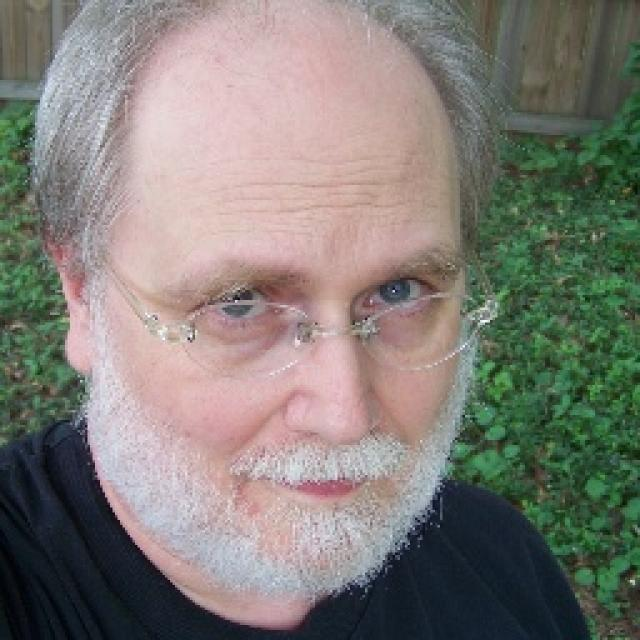earlobe: (43, 222, 94, 376)
